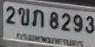letters: (18, 8, 30, 26), (32, 9, 44, 27), (6, 6, 16, 24), (61, 13, 71, 31), (73, 14, 83, 32), (49, 12, 59, 29), (85, 16, 95, 33)
province: (17, 33, 83, 47)
